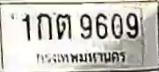0: (110, 12, 122, 38)
1: (22, 12, 30, 42)
6: (95, 12, 107, 38)
9: (125, 11, 137, 38), (79, 12, 91, 39)
A01: (36, 12, 52, 40)
A21: (55, 13, 71, 39)
BKK: (33, 49, 127, 66)
